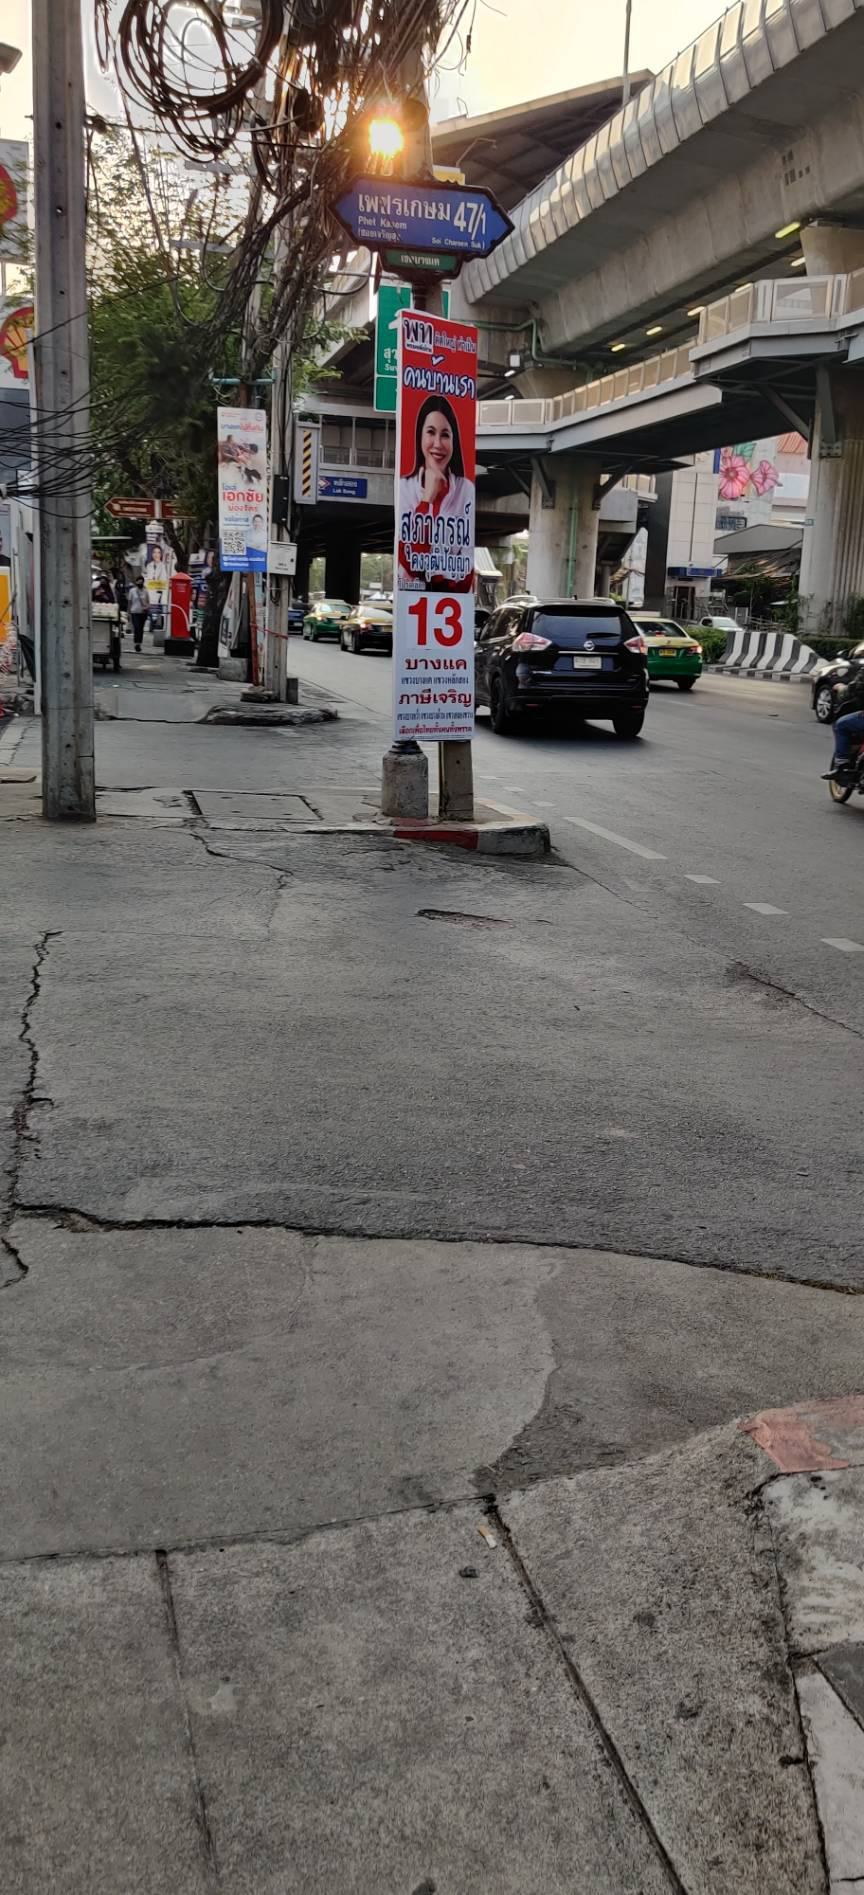Banner: (388, 294, 474, 747)
